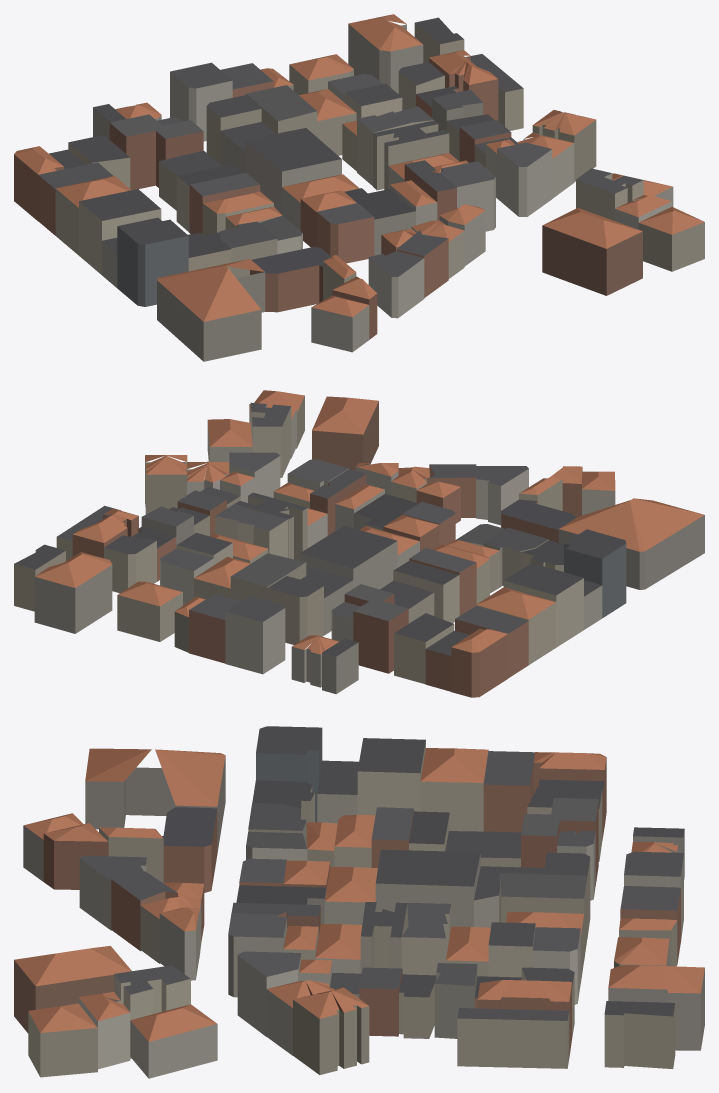
Rendered from 3_1.far.glb.
3 views of the same model, one above another, from view 1: azimuth 30°, elevation 25°; view 2: azimuth 150°, elevation 25°; view 3: azimuth 270°, elevation 25° (orthographic). The views are drawn at different scales.
Visible parts, largest first — view 1: 3_1_far; view 2: 3_1_far; view 3: 3_1_far.
Part boxes in pixels (box(x1,y1,x2,y2)): 3_1_far: box(14, 14, 704, 361); 3_1_far: box(14, 390, 704, 697); 3_1_far: box(14, 726, 704, 1078).
Bounding box in the file's own units: 286 × 36.55 × 288.
